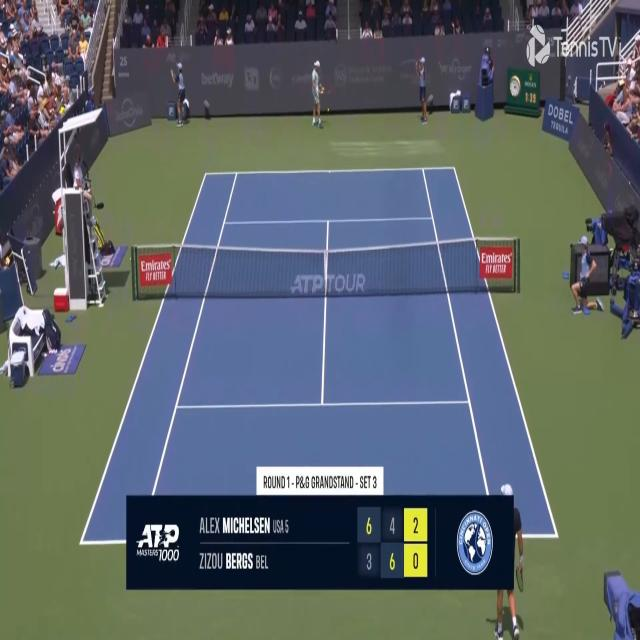tennis-player: (488, 478, 527, 640), (310, 59, 326, 131)
